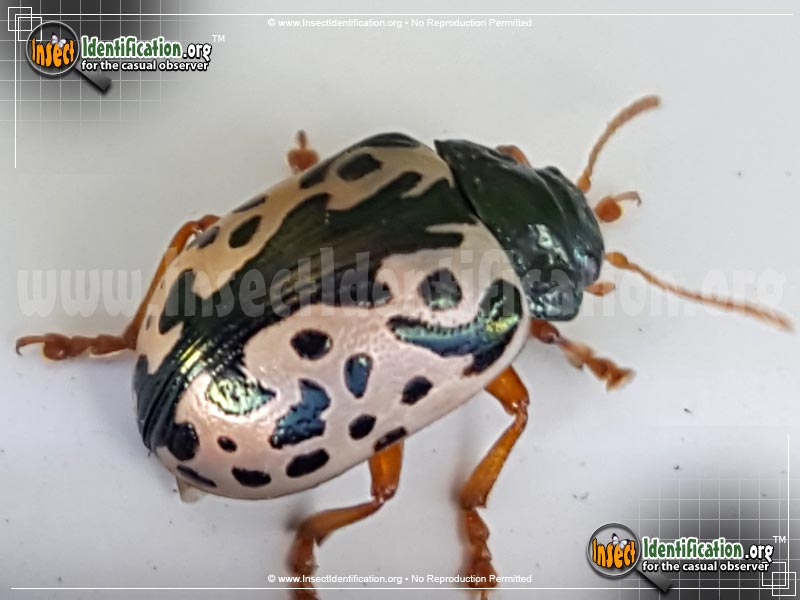Calligrapha Beetle: (57, 96, 783, 573)
